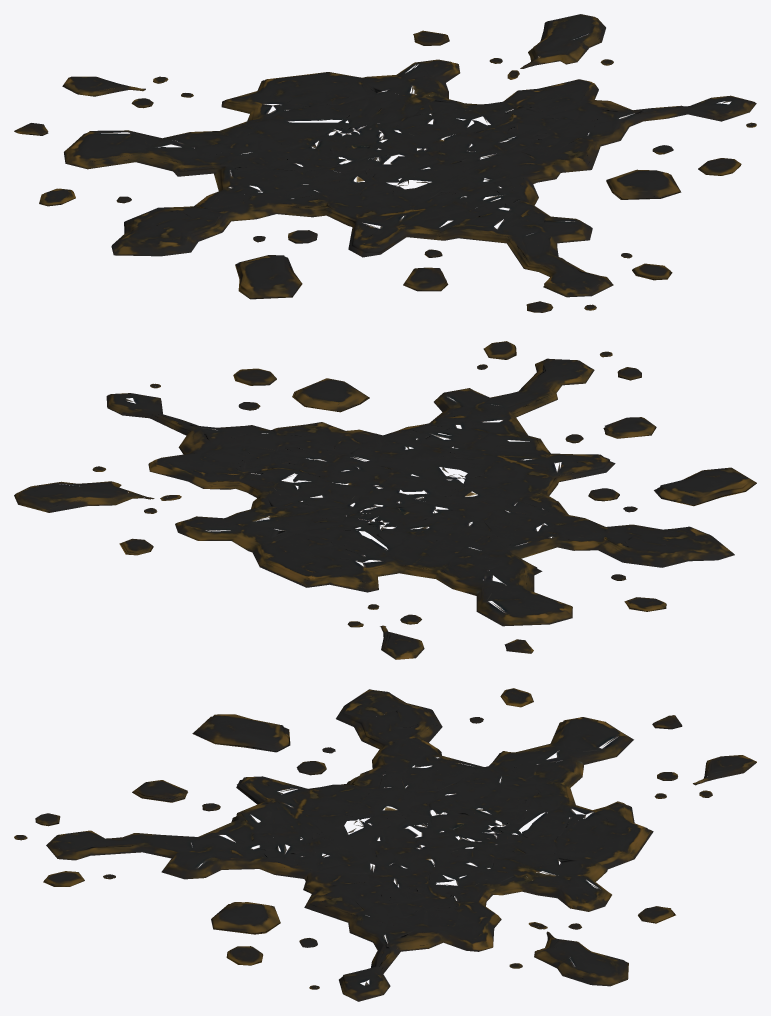
Rendered from mancha.glb.
The picture shows the model from 3 angles, top to bottom: view 1: azimuth 30°, elevation 25°; view 2: azimuth 150°, elevation 25°; view 3: azimuth 270°, elevation 25°; orthographic projection.
Visible parts, largest first — view 1: geometry_0; view 2: geometry_0; view 3: geometry_0.
Boxes of the visible parts, bbox=[...] form: geometry_0: bbox=[14, 14, 756, 312]; geometry_0: bbox=[14, 341, 756, 659]; geometry_0: bbox=[14, 688, 756, 1001].
Bounding box in the file's own units: 0.9482 × 0.0103 × 0.9487.
Materials: 1 (1 with a texture image).
